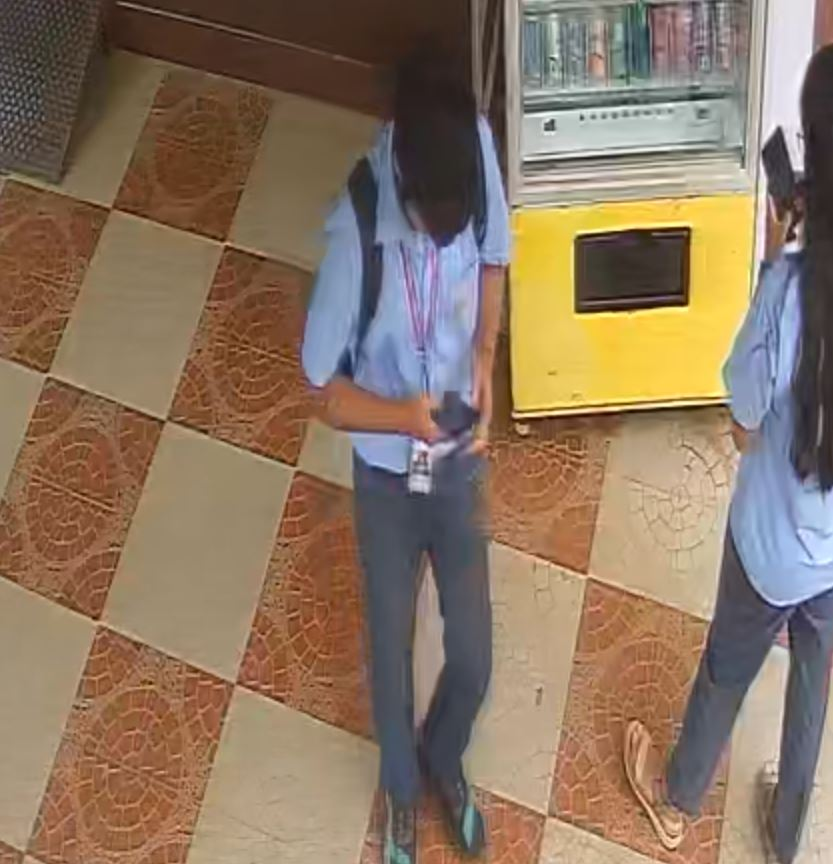intruder: (293, 53, 506, 861)
